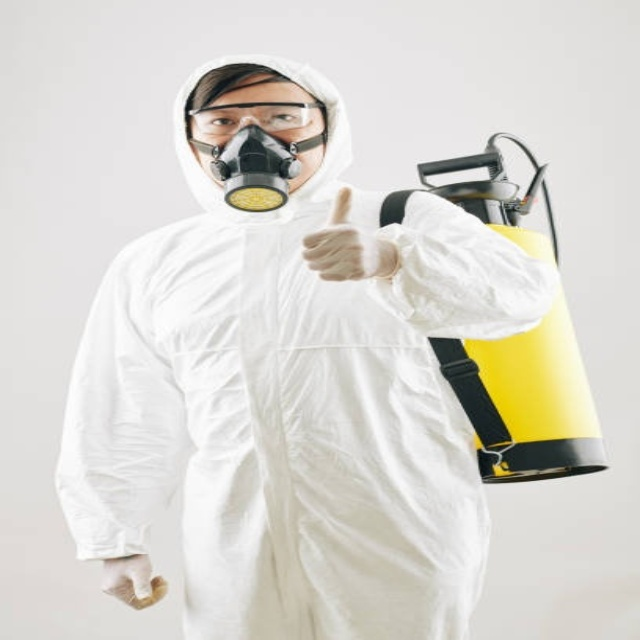Gafas: (188, 101, 327, 135)
Guantes: (306, 185, 398, 284), (94, 553, 177, 613)
Mascara: (209, 123, 302, 213)
